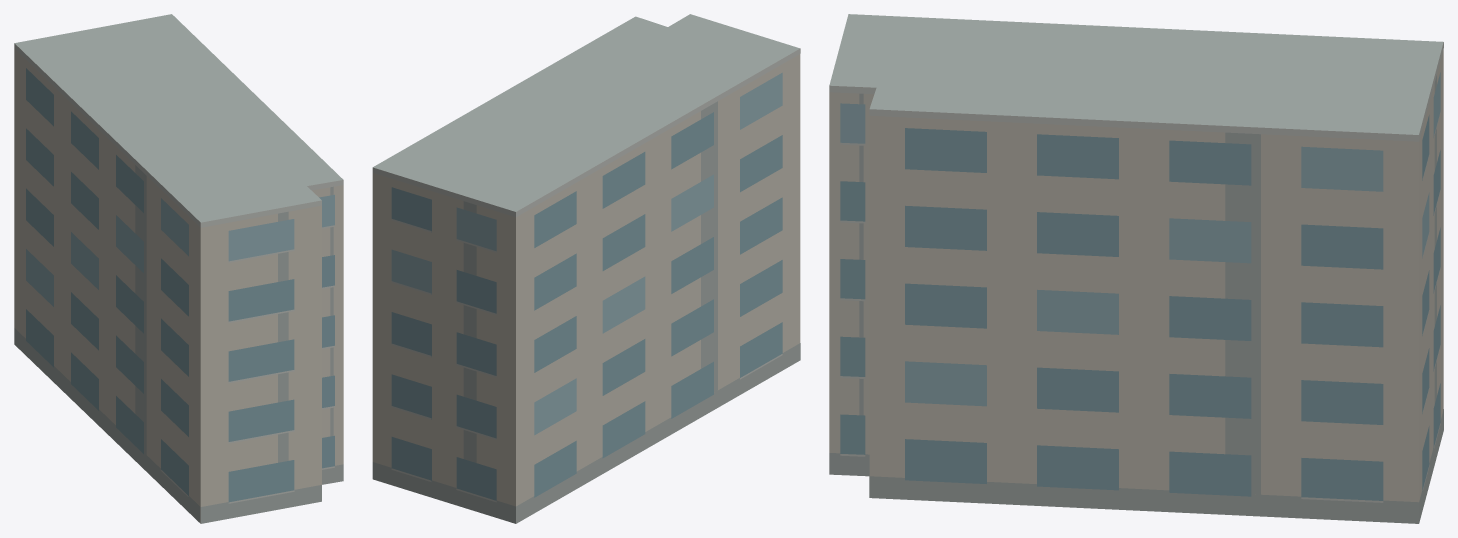
Rendered from survey-upis-32566181.glb.
3 views of the same model, side by side, from view 1: azimuth 30°, elevation 25°; view 2: azimuth 150°, elevation 25°; view 3: azimuth 270°, elevation 25° (orthographic). The views are drawn at different scales.
Parts seen in each view (by area): view 1: survey-upis-32566181.tmp; view 2: survey-upis-32566181.tmp; view 3: survey-upis-32566181.tmp.
Part boxes in pixels (x1=…): survey-upis-32566181.tmp: x1=14, y1=14, x2=343, y2=523; survey-upis-32566181.tmp: x1=372, y1=14, x2=800, y2=523; survey-upis-32566181.tmp: x1=829, y1=14, x2=1443, y2=523.
Bounding box in the file's own units: 9.56 × 14.3 × 20.49.
